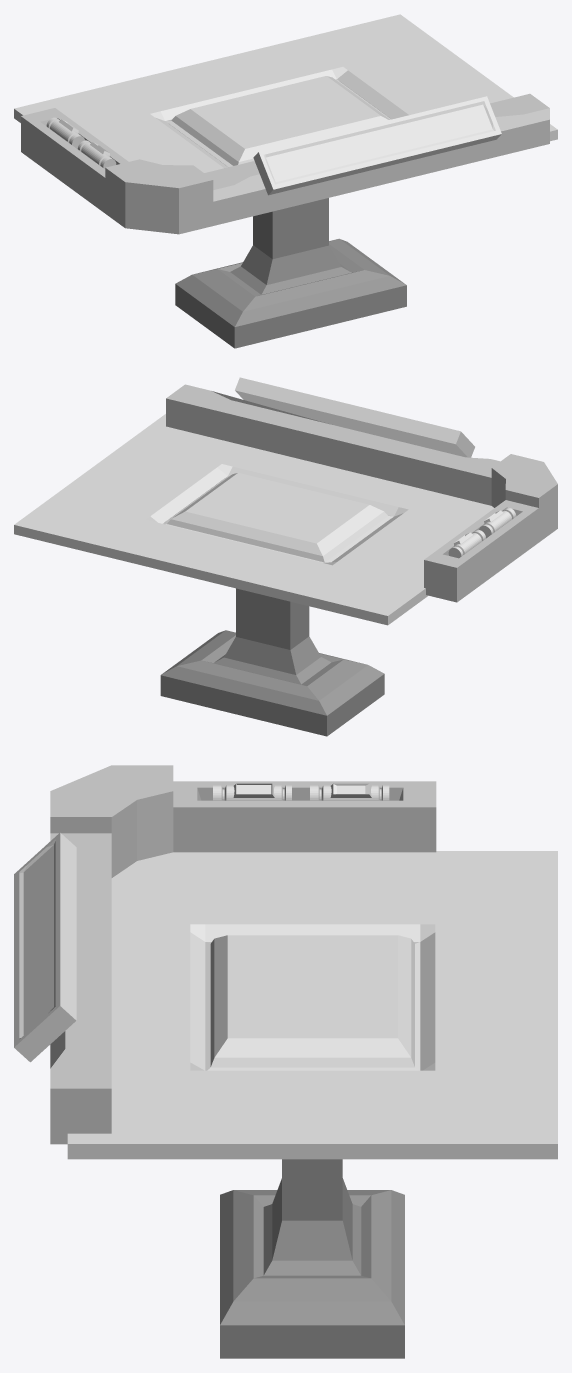
The model's file is tableCommandementHud.fbx.
3 views of the same model, one above another, from view 1: azimuth 30°, elevation 25°; view 2: azimuth 150°, elevation 25°; view 3: azimuth 270°, elevation 25° (orthographic). The views are drawn at different scales.
Visible parts, largest first — view 1: sousTable, pied, panneauCom, hautTableAvant, hautTableAngle, hautTableCoteGauche, Cylinder, Cylinder.001; view 2: sousTable, pied, hautTableAvant, panneauCom, hautTableCoteGauche, hautTableAngle, Cylinder, Cylinder.001; view 3: sousTable, pied, hautTableCoteGauche, hautTableAvant, panneauCom, hautTableAngle, Cylinder, Cylinder.001.
Boxes of the visible parts, bbox=[...] form: sousTable: bbox=[14, 14, 557, 172]; pied: bbox=[169, 82, 406, 348]; panneauCom: bbox=[253, 96, 501, 195]; hautTableAvant: bbox=[204, 93, 549, 225]; hautTableAngle: bbox=[105, 159, 213, 234]; hautTableCoteGauche: bbox=[21, 108, 128, 213]; Cylinder: bbox=[46, 117, 84, 148]; Cylinder.001: bbox=[77, 140, 116, 168]; sousTable: bbox=[14, 414, 494, 625]; pied: bbox=[160, 478, 387, 736]; hautTableAvant: bbox=[166, 384, 499, 505]; panneauCom: bbox=[235, 377, 474, 457]; hautTableCoteGauche: bbox=[424, 500, 538, 602]; hautTableAngle: bbox=[491, 454, 557, 542]; Cylinder: bbox=[448, 530, 485, 558]; Cylinder.001: bbox=[479, 507, 516, 538]; sousTable: bbox=[67, 851, 557, 1159]; pied: bbox=[220, 1159, 404, 1358]; hautTableCoteGauche: bbox=[173, 781, 436, 852]; hautTableAvant: bbox=[50, 833, 111, 1144]; panneauCom: bbox=[14, 832, 76, 1062]; hautTableAngle: bbox=[50, 765, 173, 877]; Cylinder: bbox=[310, 785, 389, 800]; Cylinder.001: bbox=[213, 785, 291, 800].
Size of the model in its own units: 469 by 258 by 339.
